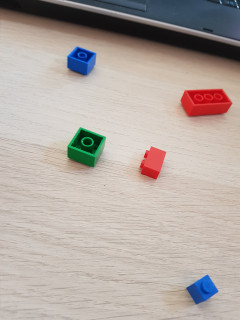1x1 blue: (187, 274, 218, 305)
1x2 red: (138, 145, 167, 180)
2x2 blue: (67, 46, 98, 77)
2x2 green: (67, 126, 107, 167)
2x4 red: (181, 88, 232, 118)
